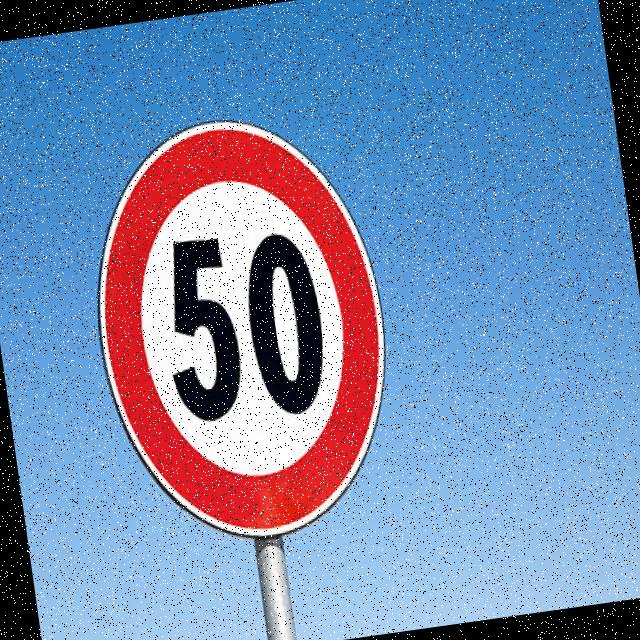speed_limit_50: (62, 90, 420, 558)
